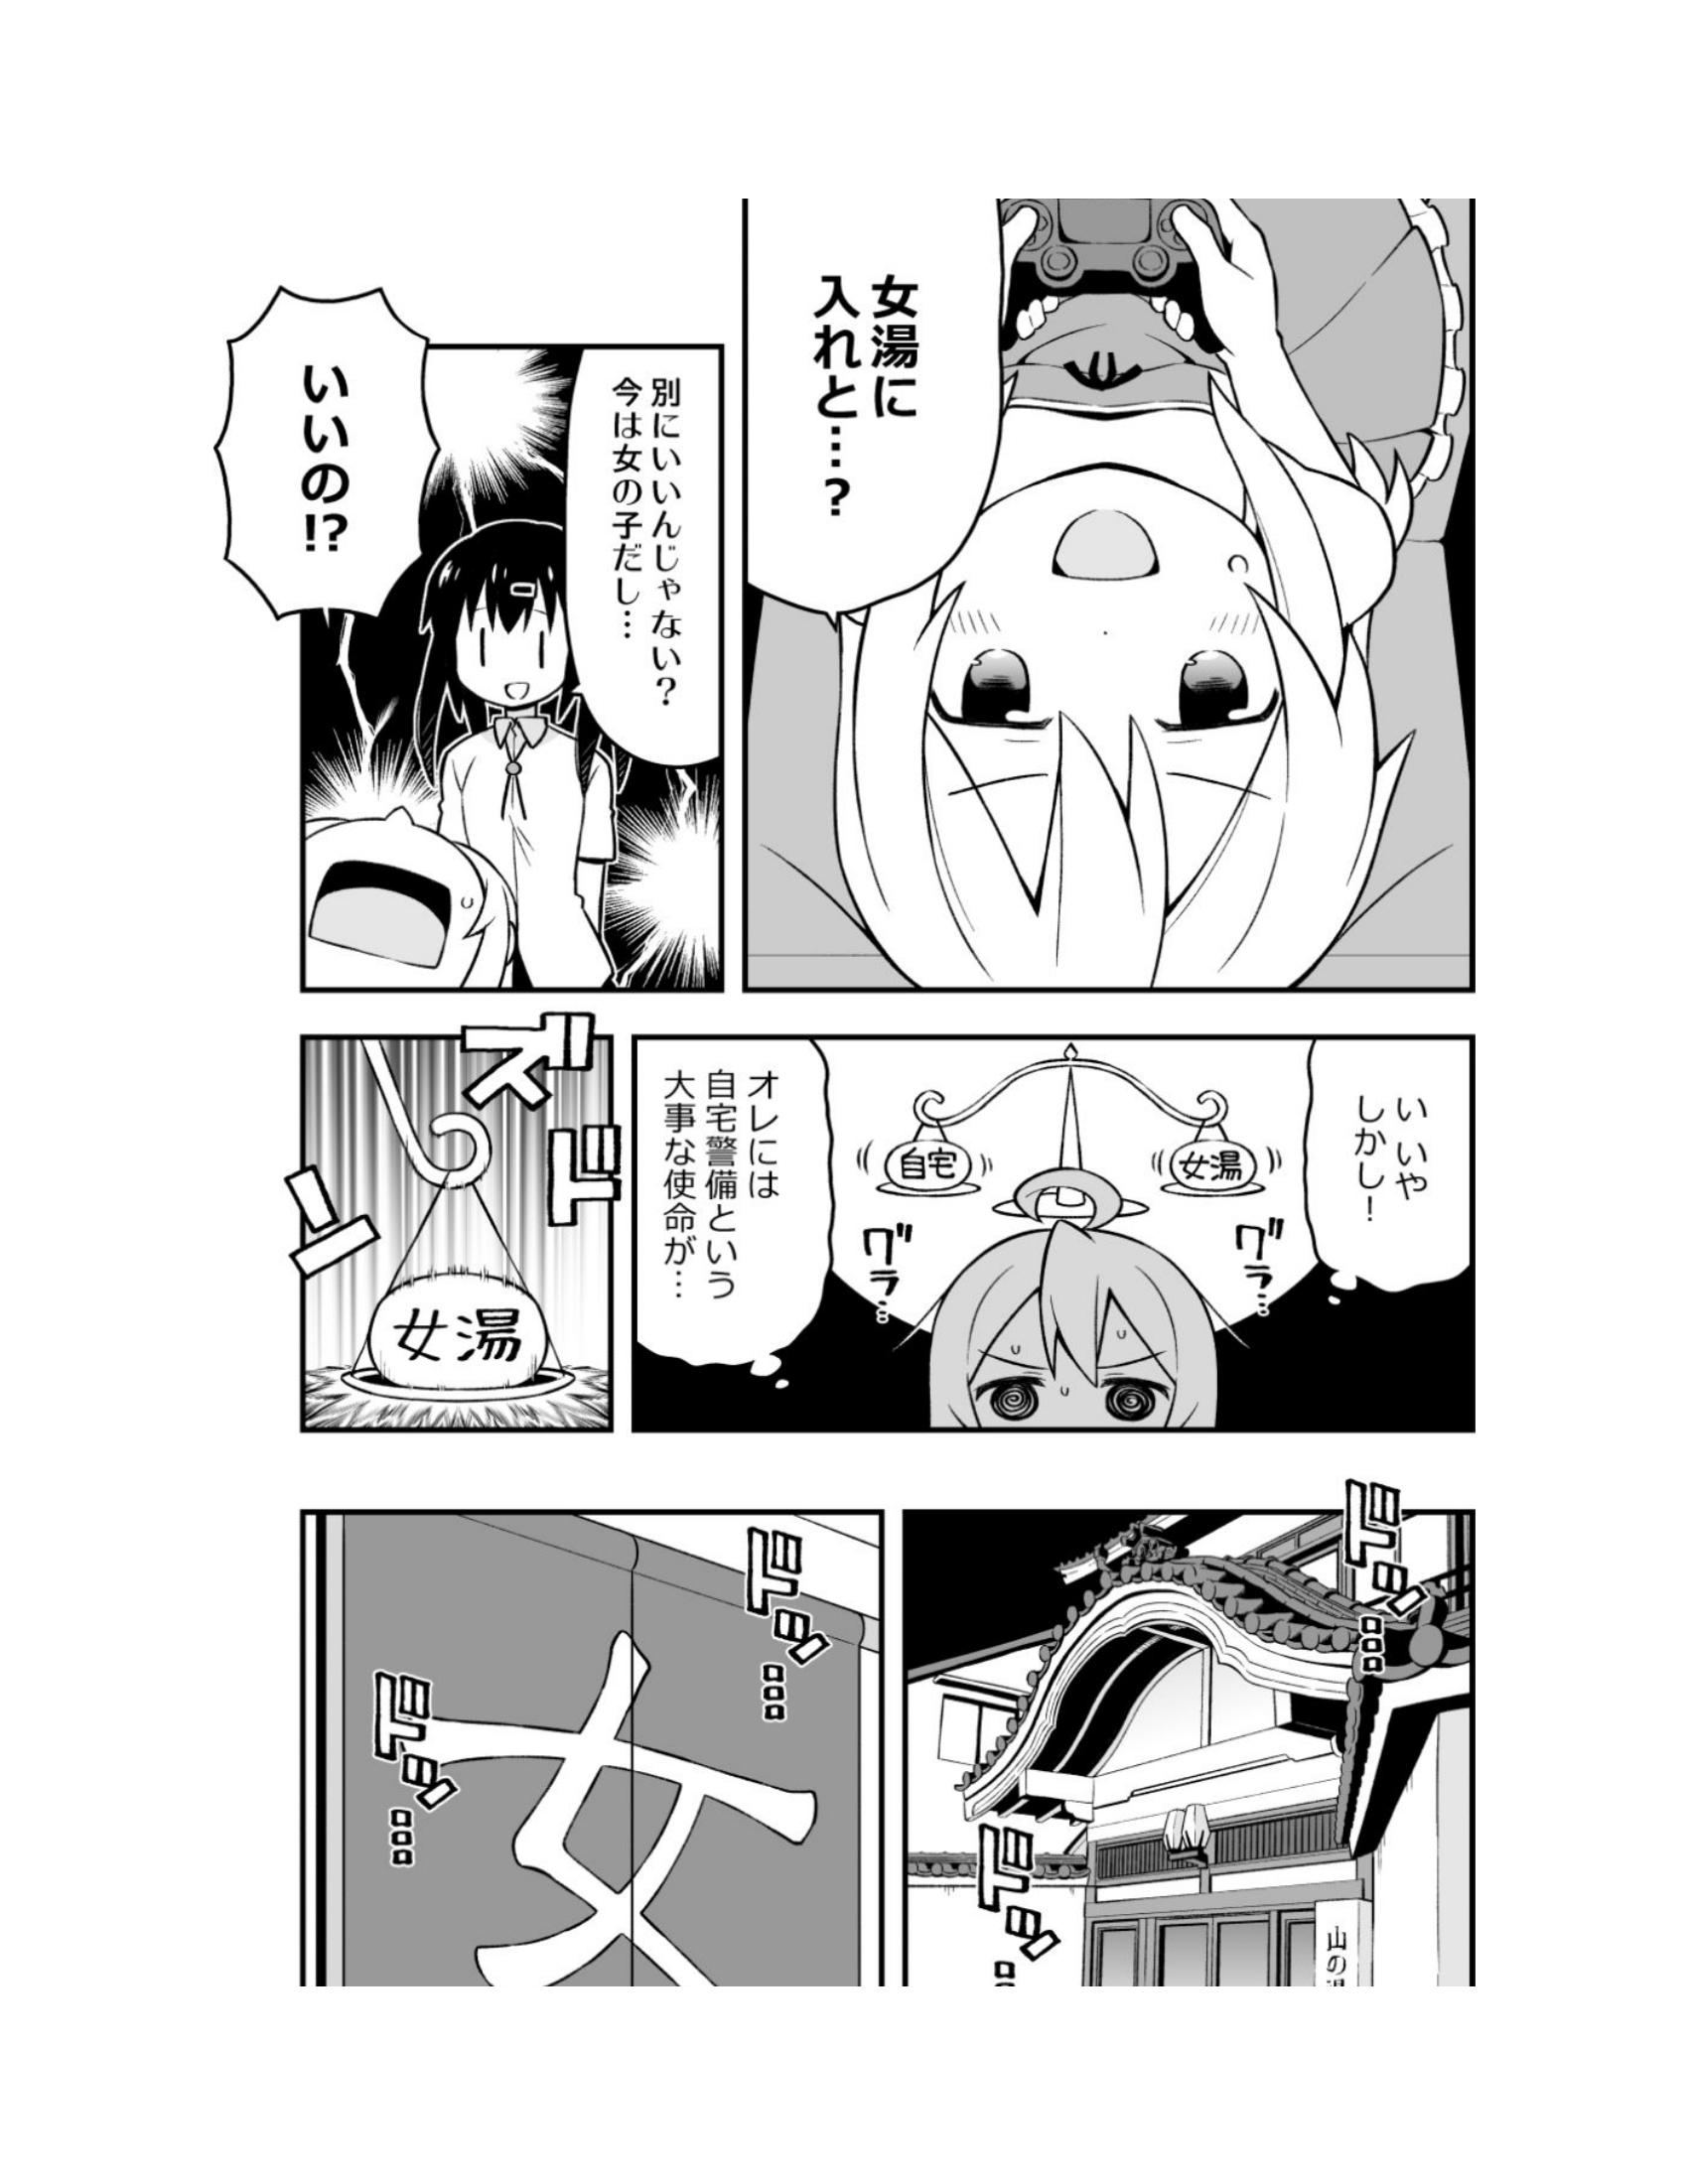a: (759, 191, 1005, 585), (560, 323, 755, 768), (211, 292, 443, 626), (624, 1030, 844, 1376), (1321, 1026, 1486, 1308)
